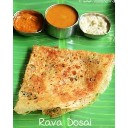dosa: (17, 44, 113, 115)
